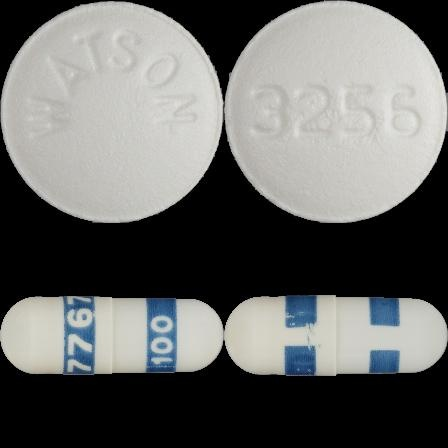42549-641: (0, 0, 224, 224)
